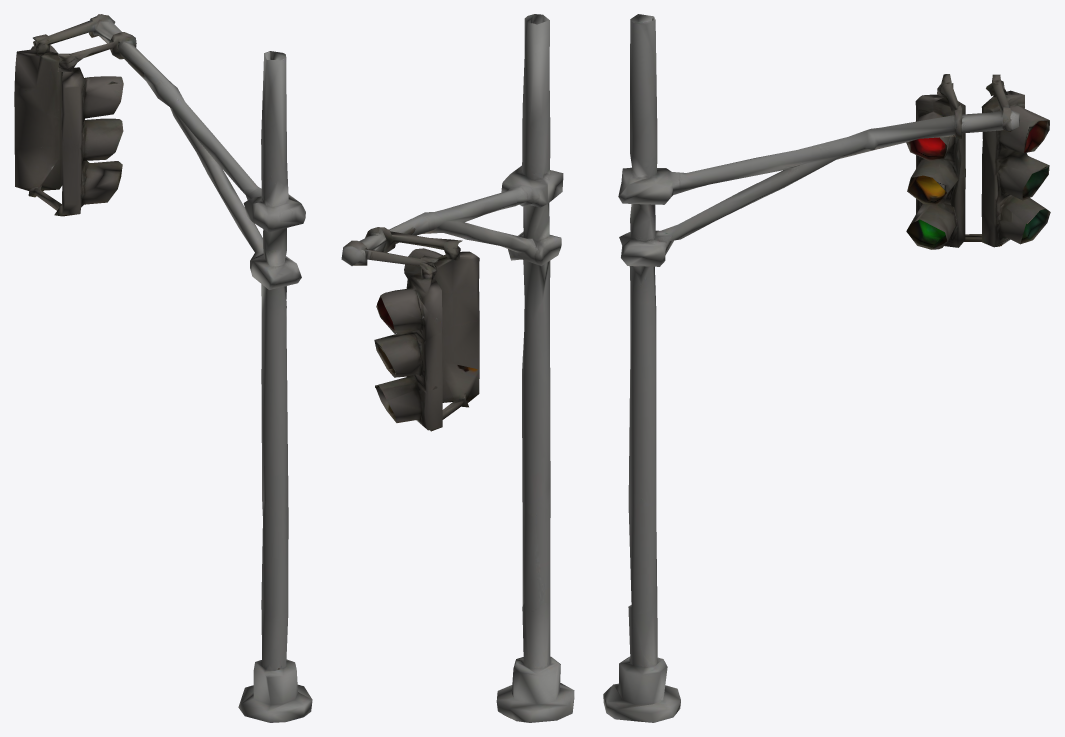
File: light.glb
3 views of the same model, side by side, from view 1: azimuth 30°, elevation 25°; view 2: azimuth 150°, elevation 25°; view 3: azimuth 270°, elevation 25° (orthographic). The views are drawn at different scales.
Visible parts, largest first — view 1: tripo_node_693bca38-9f84-44a9-89ea-cb333a70663a; view 2: tripo_node_693bca38-9f84-44a9-89ea-cb333a70663a; view 3: tripo_node_693bca38-9f84-44a9-89ea-cb333a70663a.
Part boxes in pixels (<box>): tripo_node_693bca38-9f84-44a9-89ea-cb333a70663a: <box>14,14,312,722</box>; tripo_node_693bca38-9f84-44a9-89ea-cb333a70663a: <box>341,14,574,722</box>; tripo_node_693bca38-9f84-44a9-89ea-cb333a70663a: <box>603,14,1050,722</box>.
Size of the model in its own units: 0.1901 by 0.9999 by 0.5883.
1 material, 1 textured.
